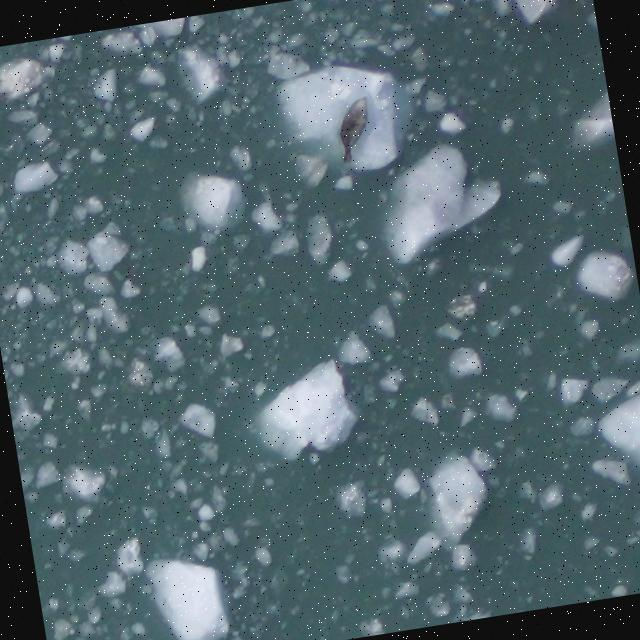seal: (332, 94, 381, 167)
